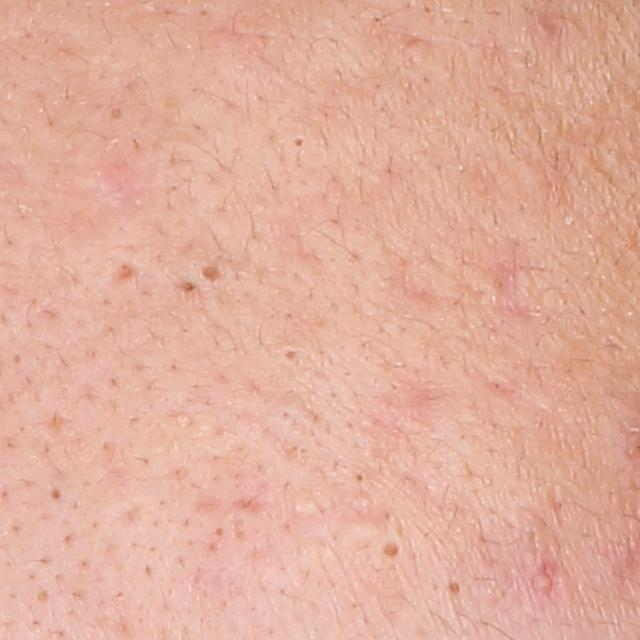atrophic_scar: (391, 265, 448, 319), (106, 257, 141, 286)
comedo: (200, 259, 234, 288), (177, 280, 198, 297), (447, 580, 465, 597), (353, 468, 370, 484), (109, 106, 122, 121)
